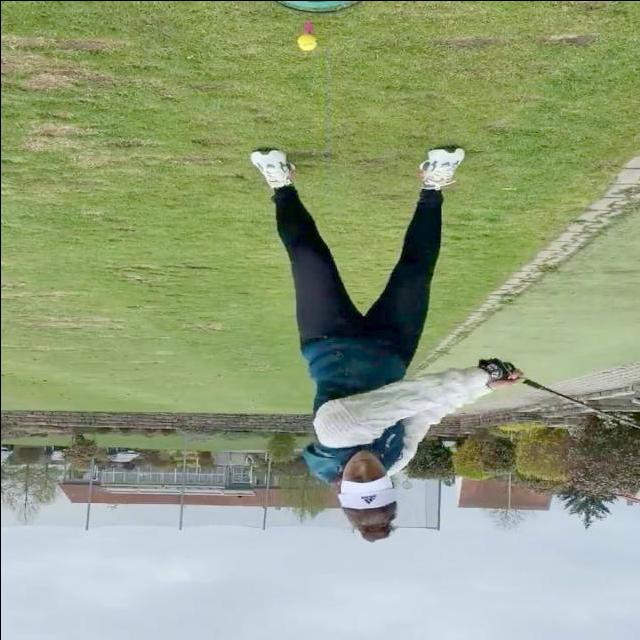golf ball: (297, 34, 316, 52)
golf club-handle: (477, 363, 640, 428)
